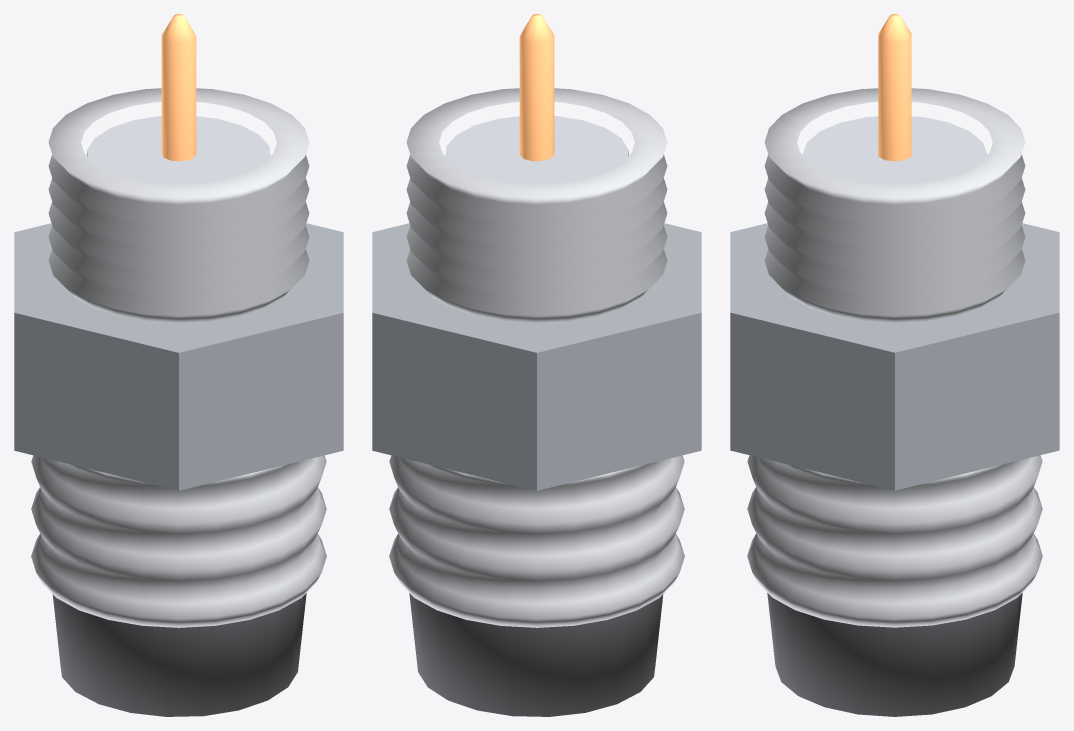
File: coax_f.glb
The picture shows the model from 3 angles, left to right: view 1: azimuth 30°, elevation 25°; view 2: azimuth 150°, elevation 25°; view 3: azimuth 270°, elevation 25°; orthographic projection.
Visible parts, largest first — view 1: nut, thread, crimp, boot, dielectric, pin; view 2: nut, thread, crimp, boot, dielectric, pin; view 3: nut, thread, crimp, boot, dielectric, pin.
Boxes of the visible parts, <box> form: nut: <box>14,223,343,490</box>; thread: <box>48,88,309,322</box>; crimp: <box>31,455,326,627</box>; boot: <box>52,593,306,716</box>; dielectric: <box>87,116,270,183</box>; pin: <box>161,14,196,161</box>; nut: <box>372,223,701,490</box>; thread: <box>406,88,667,322</box>; crimp: <box>389,455,684,627</box>; boot: <box>409,593,663,716</box>; dielectric: <box>445,116,628,183</box>; pin: <box>519,14,554,161</box>; nut: <box>730,223,1059,490</box>; thread: <box>764,88,1025,322</box>; crimp: <box>747,455,1042,627</box>; boot: <box>767,593,1022,716</box>; dielectric: <box>802,116,987,183</box>; pin: <box>878,14,911,161</box>.
Bounding box in the file's own units: 3.5 × 6.6 × 3.03.
